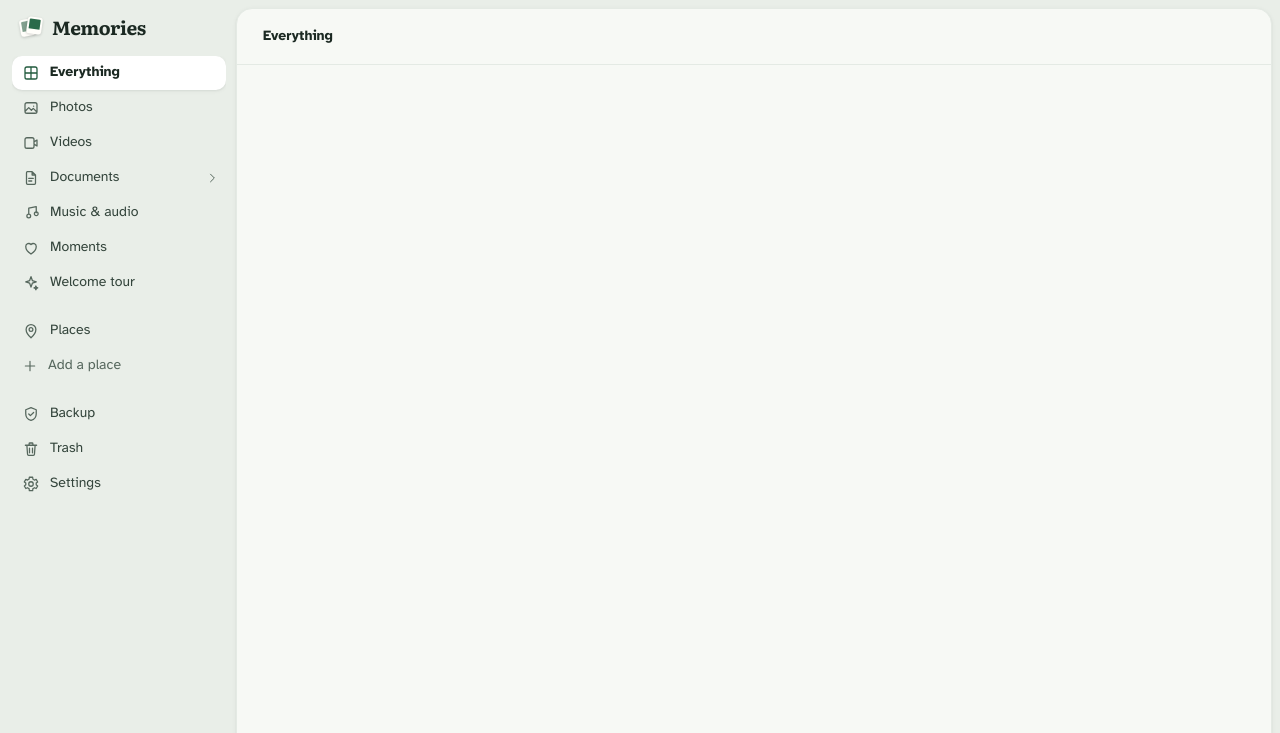
it: MemoriesApp › nests documents by format then date, or date then format
Click the button "Documents".
click(104, 178)  # box [12,160,196,194]
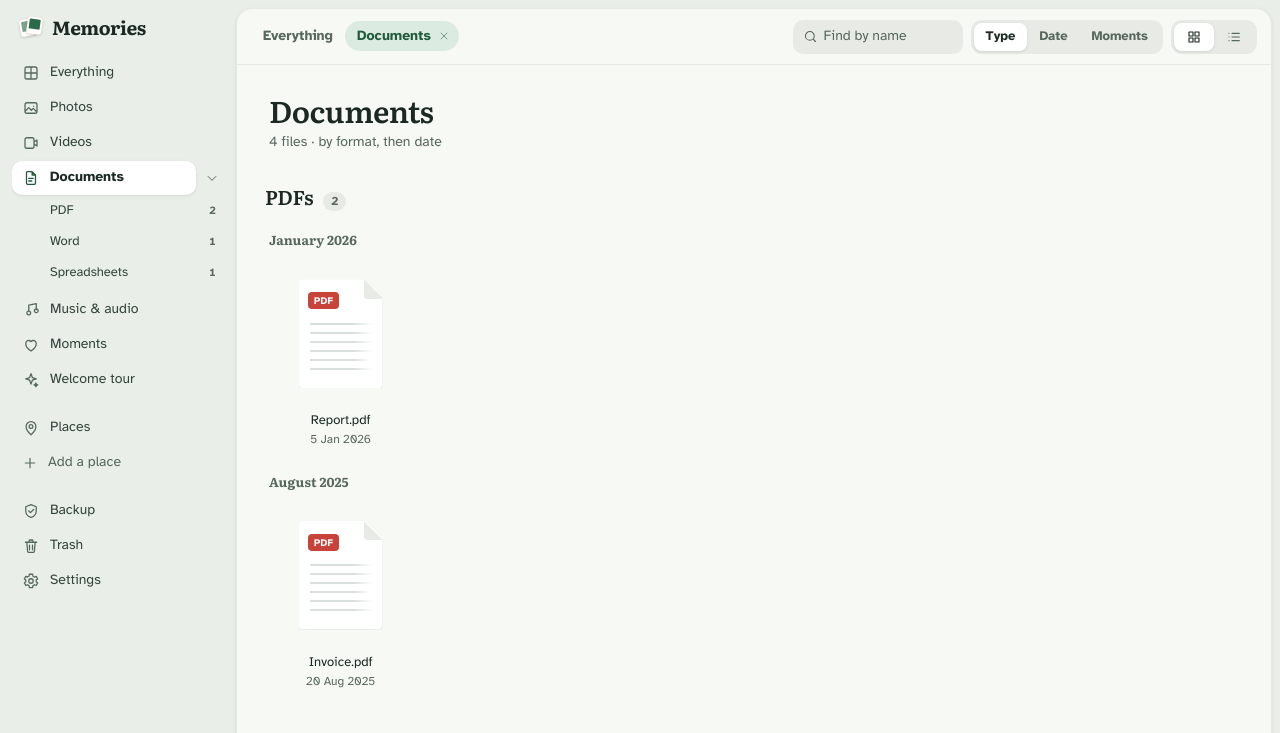
Check: the text "4 files · by format, then date" is shown, box [269,132,442,150]
Check: the element "PDFs" is shown, box [265,170,1243,698]
Check: the element "August 2025" is shown, box [265,472,416,698]
Click the radio button labelled "Date".
click(1054, 36)  # box [1028,22,1080,50]
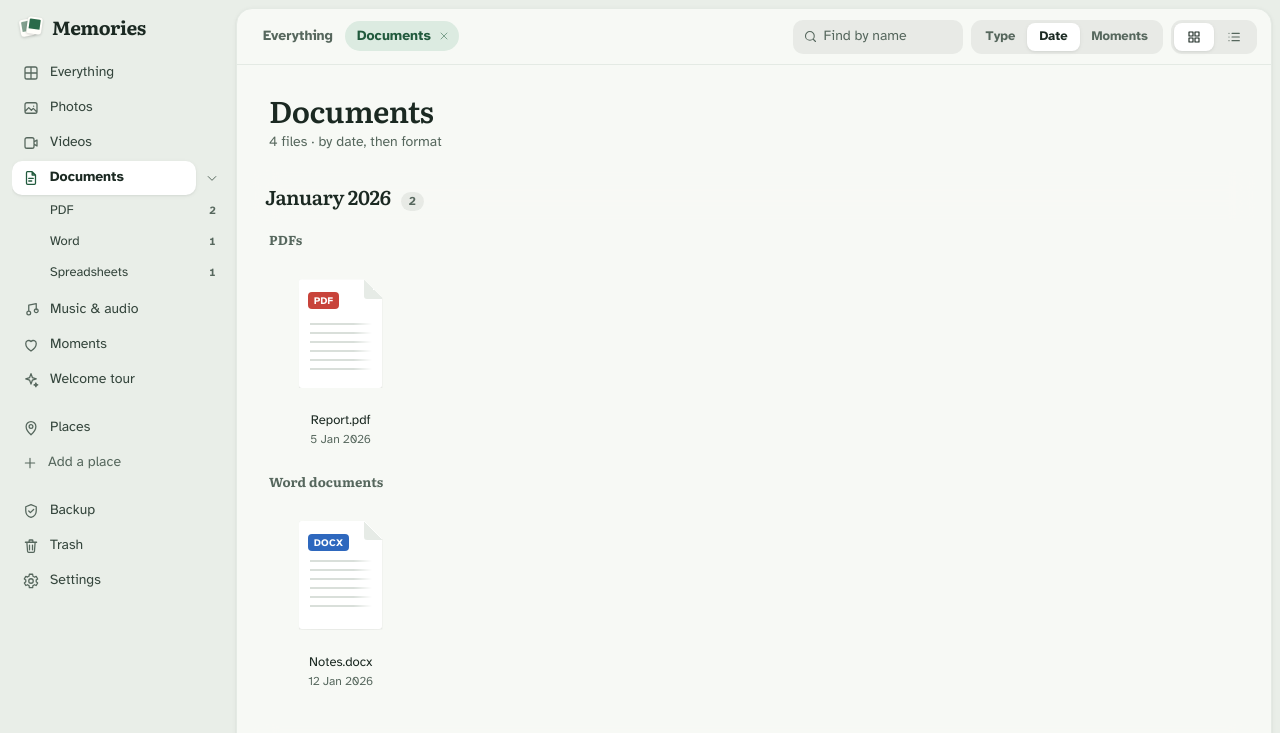
Check: the text "4 files · by date, then format" is shown, box [269,132,442,150]
Check: the element "Word documents" is shown, box [265,472,416,698]
